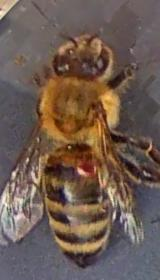varroa_mite: (73, 151, 100, 180)
